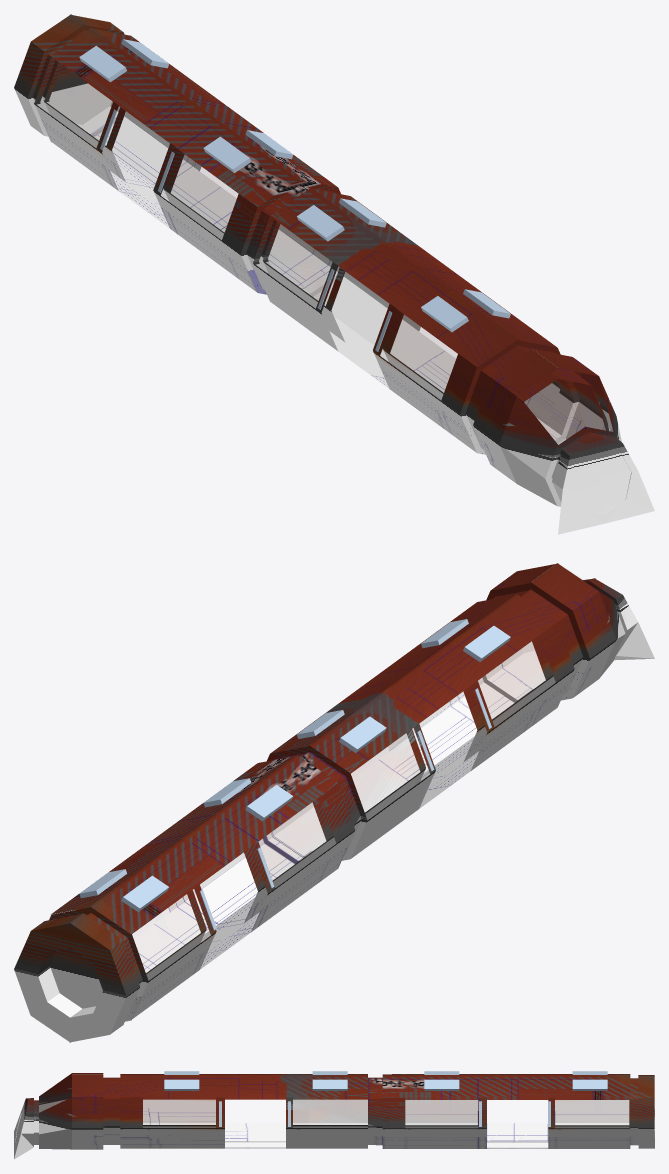
Rendered from Train.fbx.
3 views of the same model, one above another, from view 1: azimuth 30°, elevation 25°; view 2: azimuth 150°, elevation 25°; view 3: azimuth 270°, elevation 25° (orthographic). The views are drawn at different scales.
Visible parts, largest first — view 1: polySurface96, polySurface98, polySurface97, polySurface85, polySurface83, polySurface84, polySurface99, polySurface86, polySurface82, polySurface95, polySurface87, polySurface88 (+2 smaller); view 2: polySurface96, polySurface98, polySurface83, polySurface85, polySurface97, polySurface99, polySurface86, polySurface84, polySurface87, polySurface91, polySurface92, polySurface88; view 3: polySurface83, polySurface85, polySurface84, polySurface98, polySurface96, polySurface86, polySurface97, polySurface74, polySurface75, polySurface78, polySurface79.
Boxes of the visible parts, bbox=[...] form: polySurface96: bbox=[252, 188, 517, 454]; polySurface98: bbox=[34, 28, 303, 294]; polySurface97: bbox=[466, 345, 606, 534]; polySurface85: bbox=[90, 28, 340, 287]; polySurface83: bbox=[303, 188, 560, 427]; polySurface84: bbox=[517, 346, 654, 523]; polySurface99: bbox=[14, 14, 90, 142]; polySurface86: bbox=[70, 14, 126, 136]; polySurface82: bbox=[596, 443, 631, 514]; polySurface95: bbox=[569, 443, 605, 515]; polySurface87: bbox=[79, 45, 126, 82]; polySurface88: bbox=[203, 136, 251, 173]; polySurface96: bbox=[303, 594, 574, 860]; polySurface98: bbox=[90, 755, 355, 1021]; polySurface83: bbox=[267, 594, 517, 857]; polySurface85: bbox=[51, 755, 304, 972]; polySurface97: bbox=[518, 563, 654, 700]; polySurface99: bbox=[69, 907, 148, 1042]; polySurface86: bbox=[14, 907, 92, 1042]; polySurface84: bbox=[485, 563, 595, 699]; polySurface87: bbox=[121, 875, 169, 912]; polySurface91: bbox=[339, 716, 386, 752]; polySurface92: bbox=[463, 626, 510, 661]; polySurface88: bbox=[245, 785, 293, 821]; polySurface83: bbox=[120, 1075, 375, 1148]; polySurface85: bbox=[376, 1075, 630, 1148]; polySurface84: bbox=[14, 1074, 120, 1159]; polySurface98: bbox=[376, 1074, 630, 1147]; polySurface96: bbox=[120, 1074, 375, 1147]; polySurface86: bbox=[629, 1076, 654, 1148]; polySurface97: bbox=[14, 1073, 119, 1145]; polySurface74: bbox=[572, 1079, 607, 1090]; polySurface75: bbox=[424, 1079, 459, 1090]; polySurface78: bbox=[312, 1079, 347, 1090]; polySurface79: bbox=[164, 1079, 199, 1090].
Size of the model in its own units: 3.58 by 3.62 by 28.4.
